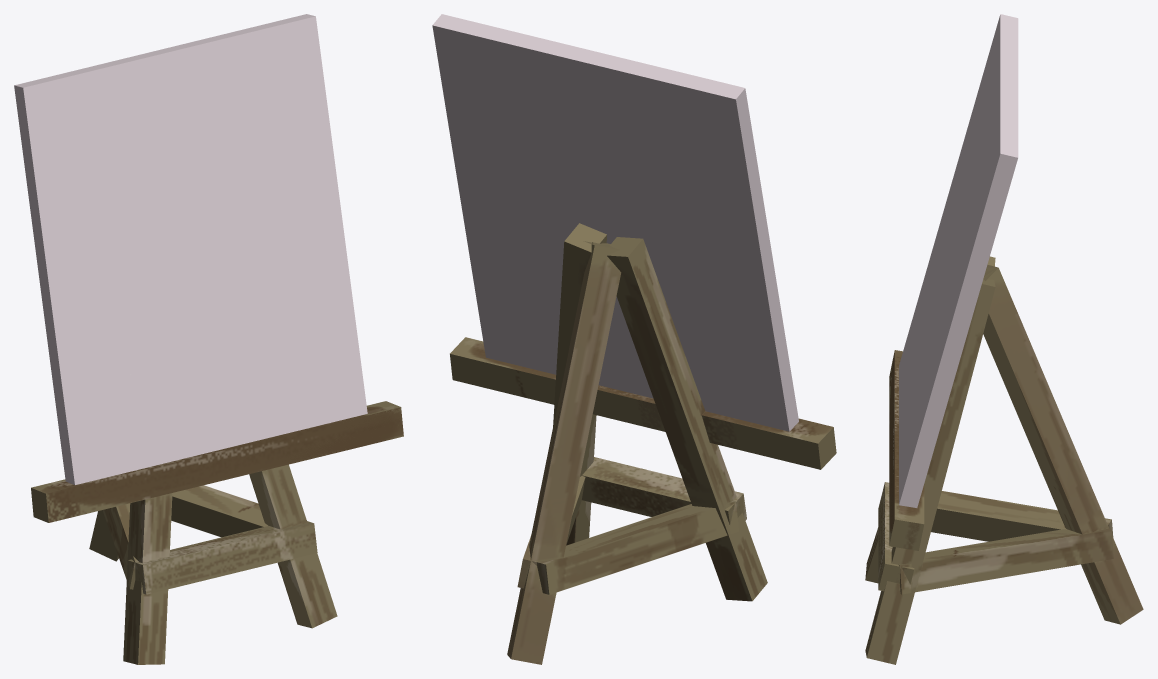
Rendered from CaballeteGal1.obj.
The picture shows the model from 3 angles, left to right: view 1: azimuth 30°, elevation 25°; view 2: azimuth 150°, elevation 25°; view 3: azimuth 270°, elevation 25°; orthographic projection. The views are drawn at different scales.
Parts seen in each view (by area): view 1: Cube.006_Material.005, Cube.006_Material.004; view 2: Cube.006_Material.005, Cube.006_Material.004; view 3: Cube.006_Material.004, Cube.006_Material.005.
Boxes of the visible parts, x1,y1,x2,y2 form: Cube.006_Material.005: [14, 14, 367, 484]; Cube.006_Material.004: [31, 401, 403, 664]; Cube.006_Material.005: [432, 14, 798, 431]; Cube.006_Material.004: [450, 223, 836, 664]; Cube.006_Material.004: [865, 256, 1143, 664]; Cube.006_Material.005: [899, 14, 1018, 507].
Size of the model in its own units: 2.54 by 3.76 by 1.76.
